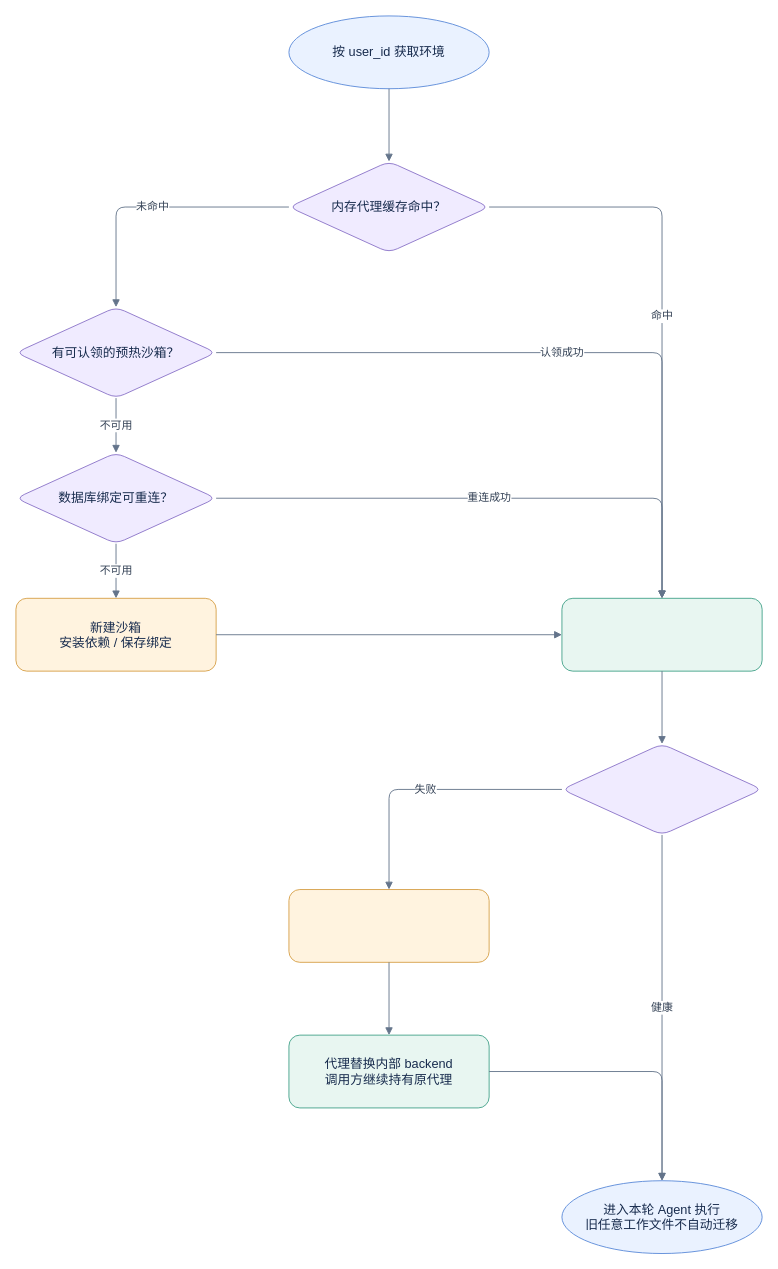
Some shapes in this 778 by 1269 pixel diagram are drawn without their labels. Here are the shapes that lost their labels. From the top down, the centre of each, then its label:
At point (661, 634): "返回用户级代理 同用户多会话共享".
At point (661, 789): "abefore_agent 健康检查".
At point (388, 925): "重建基础环境 上传 AGENTS.md".
